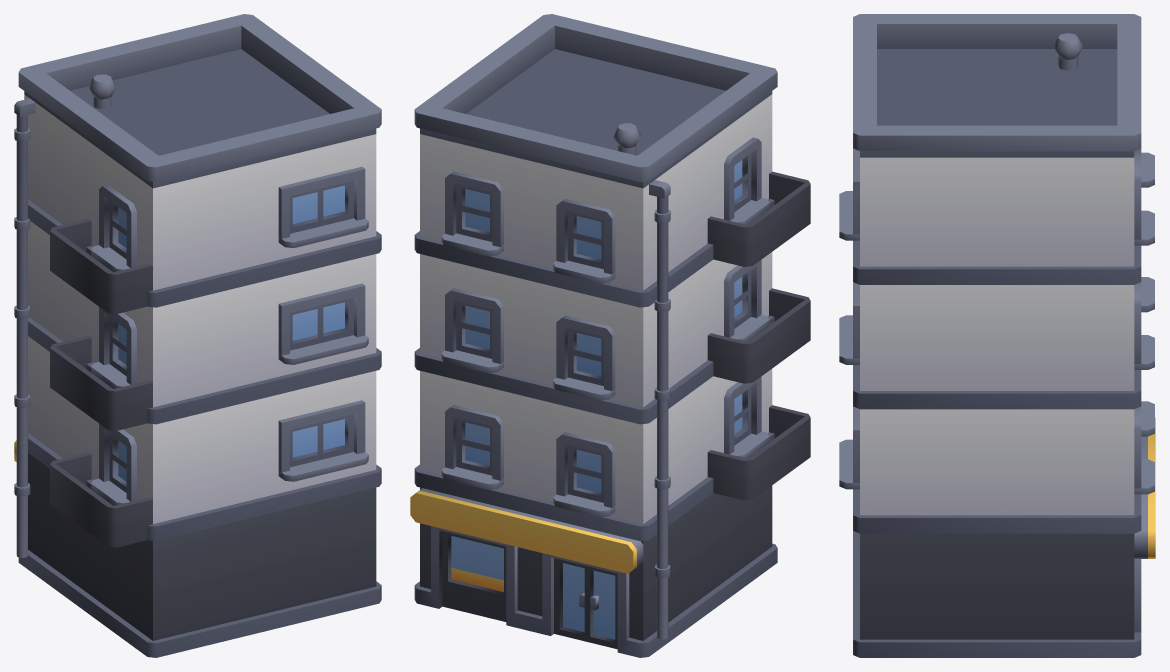
Rendered from building-g.glb.
The picture shows the model from 3 angles, left to right: view 1: azimuth 30°, elevation 25°; view 2: azimuth 150°, elevation 25°; view 3: azimuth 270°, elevation 25°; orthographic projection. The views are drawn at different scales.
Parts seen in each view (by area): view 1: building-g; view 2: building-g; view 3: building-g.
Boxes of the visible parts, x1,y1,x2,y2 form: building-g: [14, 14, 381, 657]; building-g: [410, 14, 810, 657]; building-g: [839, 14, 1155, 657].
Size of the model in its own units: 0.97 by 1.69 by 0.922.
Materials: 1 (1 with a texture image).
